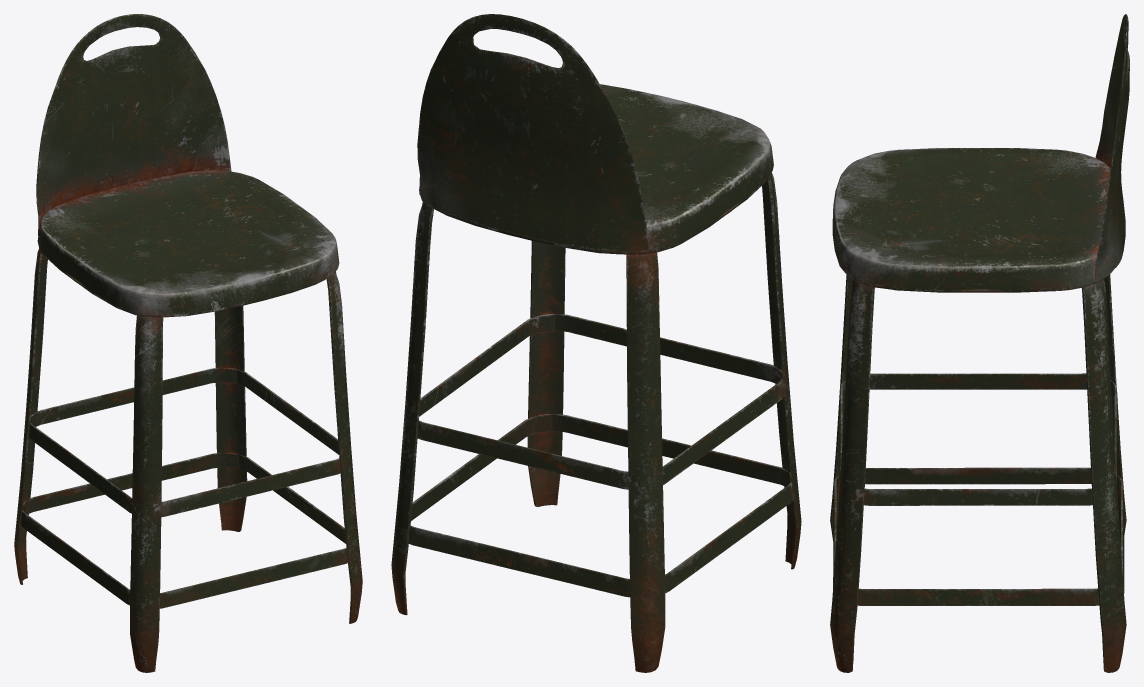
The model's file is metal_stool_03.glb.
3 renders of one model, left to right at view 1: azimuth 30°, elevation 25°; view 2: azimuth 150°, elevation 25°; view 3: azimuth 270°, elevation 25°, orthographic. The views are drawn at different scales.
Visible parts, largest first — view 1: metal_stool_03; view 2: metal_stool_03; view 3: metal_stool_03.
Boxes of the visible parts, x1,y1,x2,y2 form: metal_stool_03: (14,14,362,672); metal_stool_03: (391,14,801,672); metal_stool_03: (830,14,1129,672).
Size of the model in its own units: 0.4606 by 1.02 by 0.4704.
1 material, 1 textured.
